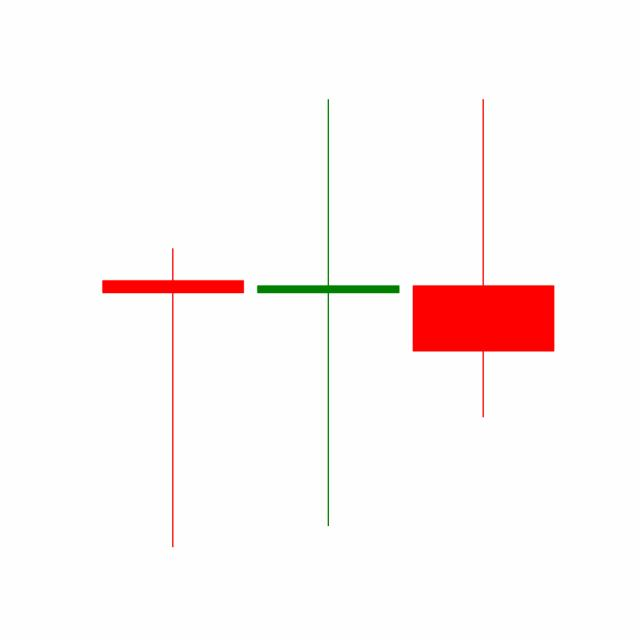Spinning Top: (249, 94, 406, 531)
